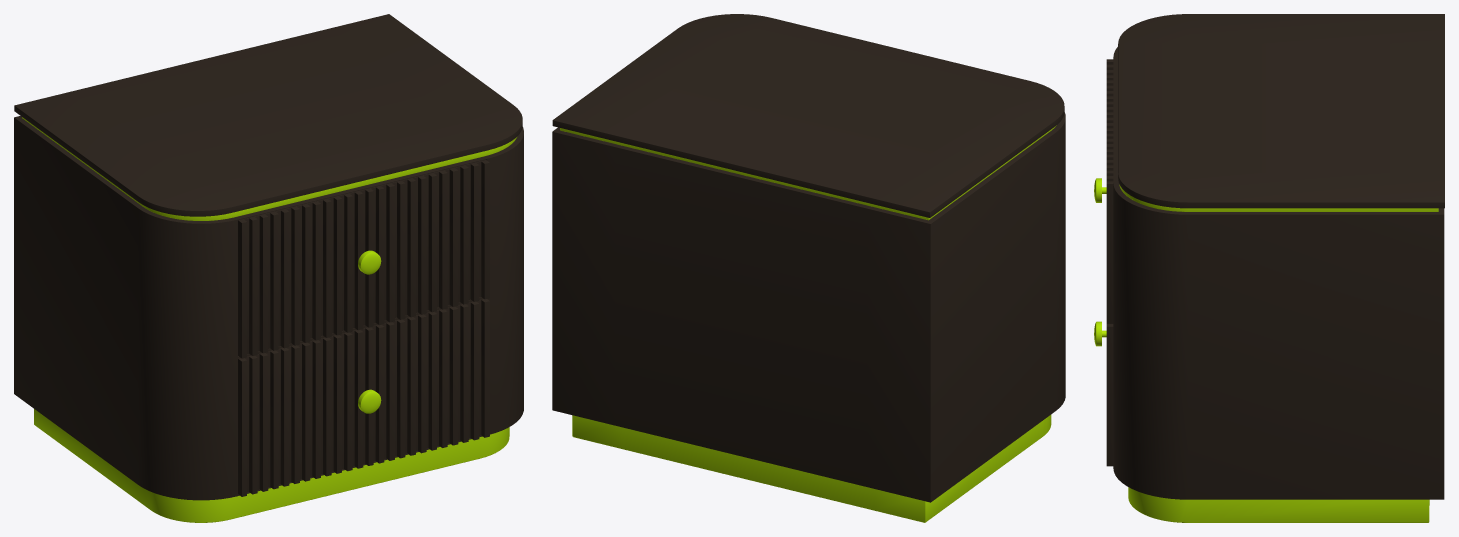
File: mesa_de_luz.fbx
3 views of the same model, side by side, from view 1: azimuth 30°, elevation 25°; view 2: azimuth 150°, elevation 25°; view 3: azimuth 270°, elevation 25° (orthographic). The views are drawn at different scales.
Parts seen in each view (by area): view 1: Modern Bed Side Table; view 2: Modern Bed Side Table; view 3: Modern Bed Side Table.
Boxes of the visible parts, left/top/right/bottom form: Modern Bed Side Table: left=14, top=14, right=523, bottom=522; Modern Bed Side Table: left=552, top=14, right=1065, bottom=522; Modern Bed Side Table: left=1094, top=14, right=1444, bottom=522.
Bounding box in the file's own units: 67.54 × 54.5 × 52.97.
